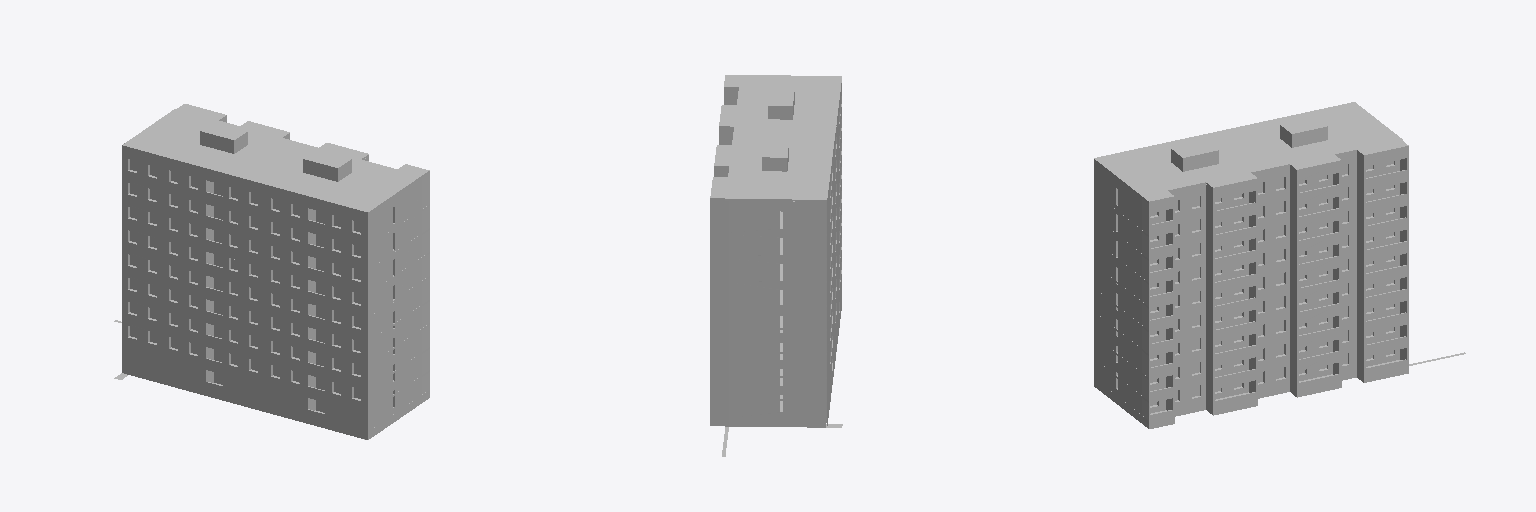
Rendered from Yellowbuilding.obj.
3 views of the same model, side by side, from view 1: azimuth 30°, elevation 25°; view 2: azimuth 150°, elevation 25°; view 3: azimuth 270°, elevation 25° (orthographic).
Visible parts, largest first — view 1: Mesh13 Component_5_1 Group1 Model, Mesh3 Group3 Component_5_1 Group1 Model, Mesh1 Group2 Component_5_1 Group1 Model, Mesh5 Group4 Component_5_1 Group1 Model; view 2: Mesh13 Component_5_1 Group1 Model, Mesh7 Group5 Component_5_1 Group1 Model; view 3: Mesh13 Component_5_1 Group1 Model, Mesh7 Group5 Component_5_1 Group1 Model, Mesh9 Group6 Component_5_1 Group1 Model, Mesh11 Group7 Component_5_1 Group1 Model, Mesh5 Group4 Component_5_1 Group1 Model.
Boxes of the visible parts, x1=… form: Mesh13 Component_5_1 Group1 Model: x1=114, y1=104, x2=429, y2=439; Mesh3 Group3 Component_5_1 Group1 Model: x1=307, y1=198, x2=325, y2=428; Mesh1 Group2 Component_5_1 Group1 Model: x1=205, y1=170, x2=222, y2=400; Mesh5 Group4 Component_5_1 Group1 Model: x1=422, y1=173, x2=429, y2=402; Mesh13 Component_5_1 Group1 Model: x1=710, y1=75, x2=842, y2=456; Mesh7 Group5 Component_5_1 Group1 Model: x1=710, y1=200, x2=724, y2=425; Mesh13 Component_5_1 Group1 Model: x1=1094, y1=102, x2=1465, y2=424; Mesh7 Group5 Component_5_1 Group1 Model: x1=1357, y1=148, x2=1408, y2=382; Mesh9 Group6 Component_5_1 Group1 Model: x1=1290, y1=162, x2=1341, y2=397; Mesh11 Group7 Component_5_1 Group1 Model: x1=1206, y1=180, x2=1257, y2=415; Mesh5 Group4 Component_5_1 Group1 Model: x1=1142, y1=198, x2=1174, y2=428.
Bounding box in the file's own units: 34543 × 36852 × 51562.